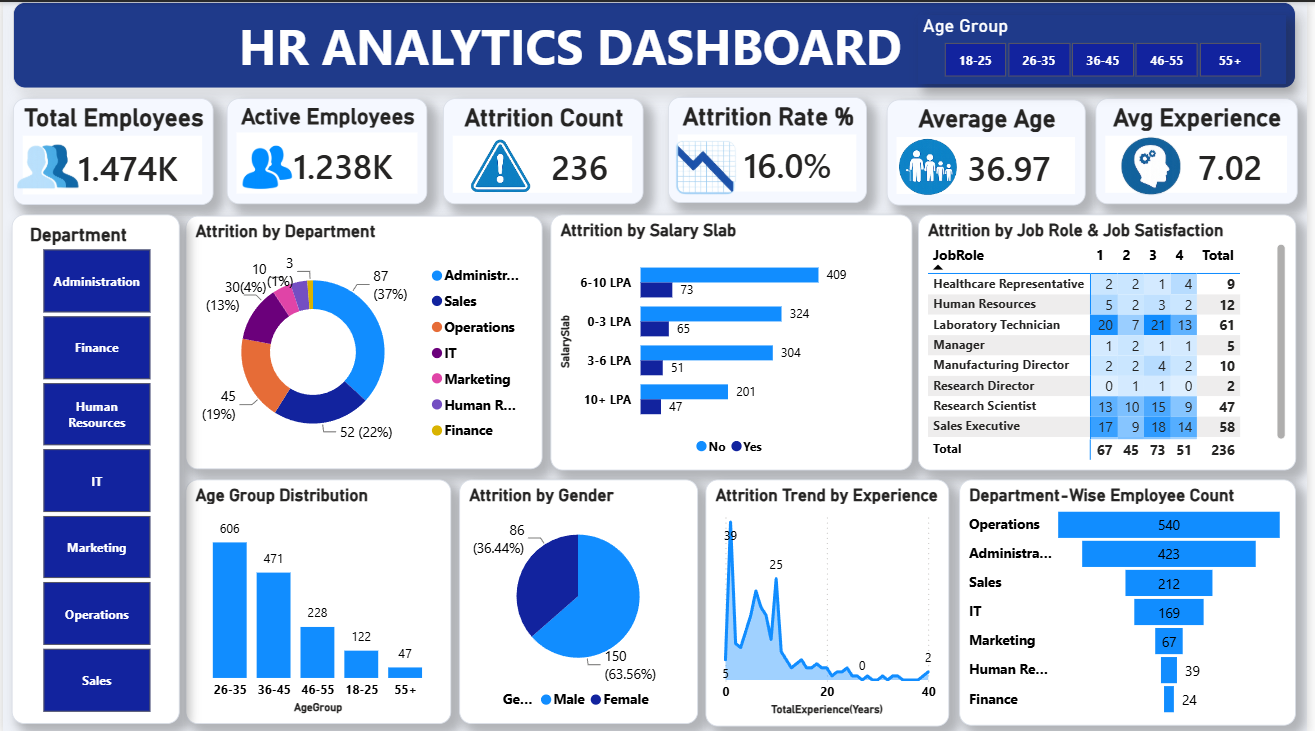

The page's visual inventory and layout, read from the dashboard file:
{"tool":"powerbi","page":{"name":"Page 1","canvas":[1280,720],"ordinal":0},"visuals":[{"type":"textbox","box":[10,0,1259,85],"z":0},{"type":"cardVisual","title":"Total Employees","fields":{"Data":["CountNonNull(HR_Analytics-4.EmpID)"]},"box":[9.5,94.2,196.7,104.9],"z":1000},{"type":"cardVisual","title":"Active Employees","fields":{"Data":["CountNonNull(HR_Analytics-4.AttritionCount)"]},"box":[219.8,94.8,197.1,104.2],"z":2000},{"type":"cardVisual","title":"Attrition Count","fields":{"Data":["Sum(HR_Analytics-4.AttritionCount)"]},"box":[431.5,94.2,196.7,103.7],"z":3000},{"type":"cardVisual","title":"Attrition Rate %","fields":{"Data":["HR_Analytics-4.Attrition Rate %"]},"box":[653.2,93,195.5,103.7],"z":4000},{"type":"cardVisual","title":"Average Age","fields":{"Data":["Avg(HR_Analytics-4.Age)"]},"box":[867.8,95.4,195.5,103.7],"z":5000},{"type":"cardVisual","title":"Avg Experience","fields":{"Data":["Avg(HR_Analytics-4.YearsatCompany)"]},"box":[1072,94,198,104],"z":6000},{"type":"donutChart","title":"Attrition by Department","fields":{"Category":["HR_Analytics-4.Department"],"Y":["Sum(HR_Analytics-4.AttritionCount)"]},"box":[179,210,350,249],"z":7000},{"type":"clusteredBarChart","title":"Attrition by Salary Slab","fields":{"Category":["HR_Analytics-4.SalarySlab"],"Y":["CountNonNull(HR_Analytics-4.EmpID)"],"Series":["HR_Analytics-4.Attrition"]},"box":[537,209,355,251],"z":8000},{"type":"pivotTable","title":"Attrition by Job Role & Job Satisfaction","fields":{"Rows":["HR_Analytics-4.JobRole"],"Values":["Sum(HR_Analytics-4.AttritionCount)"],"Columns":["HR_Analytics-4.JobSatisfaction"]},"box":[898,209,371,251],"z":9000},{"type":"columnChart","title":"Age Group Distribution","fields":{"Category":["HR_Analytics-4.AgeGroup"],"Y":["Sum(HR_Analytics-4.EmployeeCount)"]},"box":[179,469,261,240],"z":10000},{"type":"pieChart","title":"Attrition by Gender","fields":{"Category":["HR_Analytics-4.Gender"],"Y":["Sum(HR_Analytics-4.AttritionCount)"]},"box":[448,469,234,240],"z":11000},{"type":"areaChart","title":"Attrition Trend by Experience","fields":{"Category":["HR_Analytics-4.TotalExperience(Years)"],"Y":["Sum(HR_Analytics-4.AttritionCount)"]},"box":[689,469,239,242],"z":12000},{"type":"funnel","title":"Department-Wise Employee Count","fields":{"Category":["HR_Analytics-4.Department"],"Y":["CountNonNull(HR_Analytics-4.EmpID)"]},"box":[938.7,468.7,330,241.7],"z":13000},{"type":"slicer","fields":{"Values":["HR_Analytics-4.Department"]},"box":[9,209,165,500],"z":14000},{"type":"slicer","title":"Age Group","fields":{"Values":["HR_Analytics-4.AgeGroup"]},"box":[898,12,361,68],"z":15000},{"type":"image","box":[9.8,130.1,72.4,67.5],"z":16000},{"type":"image","box":[219.6,116.6,78.5,92],"z":17000},{"type":"image","box":[1093.3,127.6,65,65],"z":18000},{"type":"image","box":[456.4,130.1,63.8,63.8],"z":19000},{"type":"image","box":[877.3,130.1,61.4,65],"z":20000},{"type":"image","box":[656.4,133.7,67.5,57.7],"z":21000}]}

Visuals, with their boxes in screenshot pixels (x1, y1, x2, y2), scaled from the page's 1280x720 canvas onto the 1315x731 screenshot:
textbox: [10, 0, 1304, 86]
"Total Employees" cardVisual: [10, 96, 212, 202]
"Active Employees" cardVisual: [226, 96, 428, 202]
"Attrition Count" cardVisual: [443, 96, 645, 201]
"Attrition Rate %" cardVisual: [671, 94, 872, 200]
"Average Age" cardVisual: [892, 97, 1092, 202]
"Avg Experience" cardVisual: [1101, 95, 1305, 201]
"Attrition by Department" donutChart: [184, 213, 543, 466]
"Attrition by Salary Slab" clusteredBarChart: [552, 212, 916, 467]
"Attrition by Job Role & Job Satisfaction" pivotTable: [923, 212, 1304, 467]
"Age Group Distribution" columnChart: [184, 476, 452, 720]
"Attrition by Gender" pieChart: [460, 476, 701, 720]
"Attrition Trend by Experience" areaChart: [708, 476, 953, 722]
"Department-Wise Employee Count" funnel: [964, 476, 1303, 721]
slicer - HR_Analytics-4.Department: [9, 212, 179, 720]
"Age Group" slicer: [923, 12, 1293, 81]
image: [10, 132, 84, 201]
image: [226, 118, 306, 212]
image: [1123, 130, 1190, 196]
image: [469, 132, 534, 197]
image: [901, 132, 964, 198]
image: [674, 136, 744, 194]
